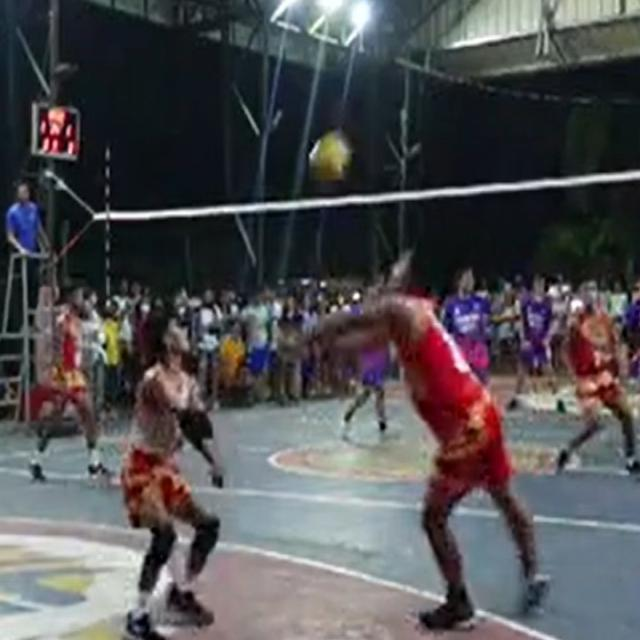volleyball: (308, 130, 350, 190)
